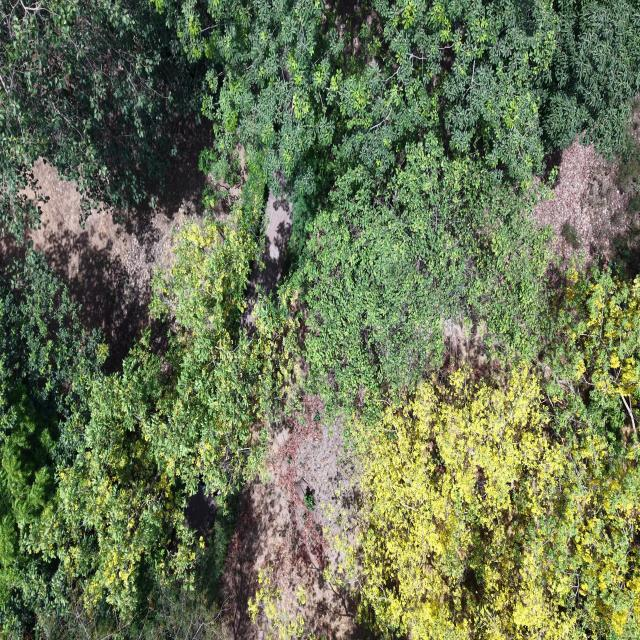DRY_AREA: (26, 134, 208, 372), (26, 142, 207, 372), (29, 148, 205, 369), (28, 160, 197, 370), (221, 396, 361, 639), (222, 397, 362, 639), (223, 397, 361, 639), (223, 398, 361, 639), (222, 398, 359, 639), (222, 398, 357, 639), (224, 398, 359, 639), (533, 137, 639, 285), (534, 140, 639, 276), (534, 142, 633, 262), (245, 179, 292, 323), (244, 194, 292, 325), (247, 191, 292, 301), (257, 194, 291, 289)
VEGETATION_TREE: (0, 0, 639, 639), (0, 0, 639, 234), (0, 157, 292, 636), (33, 158, 289, 629), (353, 272, 639, 638), (157, 0, 639, 202), (356, 367, 639, 639), (292, 137, 550, 412), (0, 0, 203, 238), (152, 155, 292, 500), (36, 339, 197, 619), (0, 249, 106, 637), (540, 2, 639, 154), (548, 270, 639, 434), (39, 568, 225, 639)
